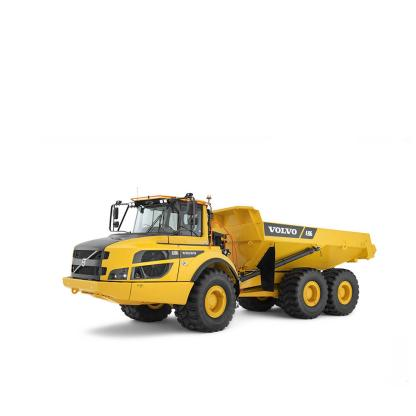dump_truck: (49, 193, 378, 329)
